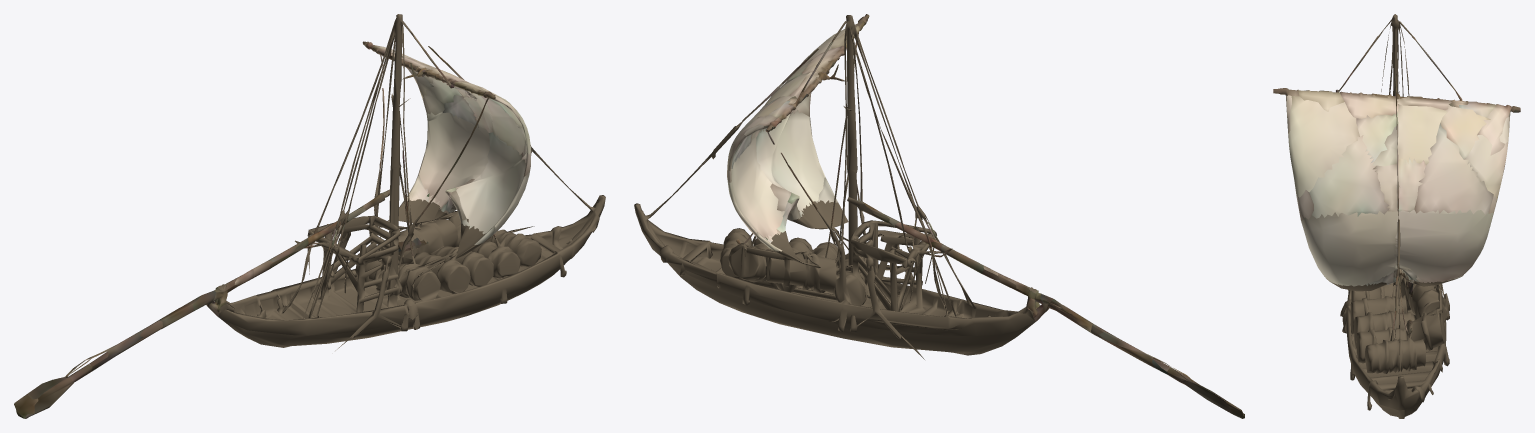
The model's file is rabelo.glb.
3 renders of one model, left to right at view 1: azimuth 30°, elevation 25°; view 2: azimuth 150°, elevation 25°; view 3: azimuth 270°, elevation 25°, orthographic. The views are drawn at different scales.
Visible parts, largest first — view 1: lite_static, Vela, Leme; view 2: lite_static, Vela, Leme; view 3: Vela, lite_static.
Part boxes in pixels (x1,y1,x2,y2): lite_static: (218,14,605,350); Vela: (362,34,531,255); Leme: (14,191,387,418); lite_static: (634,15,1036,359); Vela: (727,14,869,262); Leme: (856,200,1244,418); Vela: (1273,35,1520,333); lite_static: (1331,14,1463,418).
Size of the model in its own units: 30.15 by 14.96 by 10.07.
Materials: 2 (1 with a texture image).
